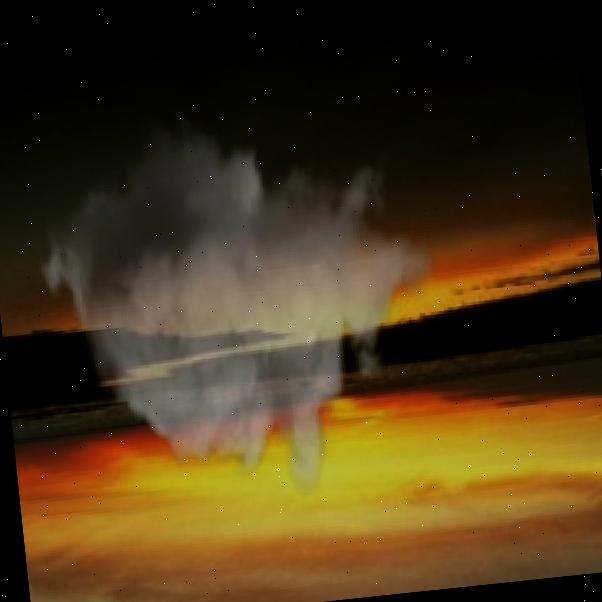smoke: (20, 83, 457, 522)
